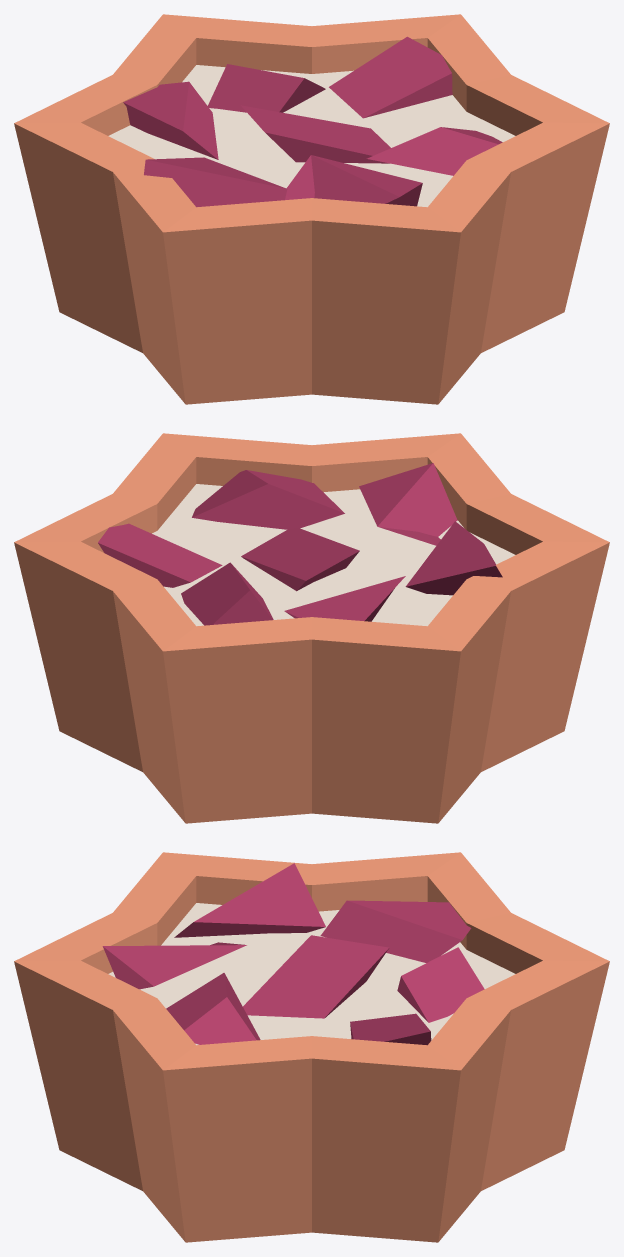
File: BerryBasket.fbx
3 views of the same model, one above another, from view 1: azimuth 30°, elevation 25°; view 2: azimuth 150°, elevation 25°; view 3: azimuth 270°, elevation 25° (orthographic).
Parts seen in each view (by area): view 1: Berry Basket; view 2: Berry Basket; view 3: Berry Basket.
Part boxes in pixels (left/top/right/bottom): Berry Basket: left=14, top=14, right=609, bottom=404; Berry Basket: left=14, top=433, right=609, bottom=823; Berry Basket: left=14, top=852, right=609, bottom=1242.
Size of the model in its own units: 55.69 by 24.02 by 64.3.
